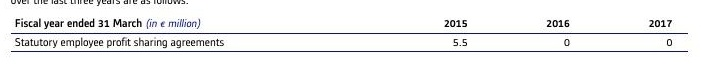table: (0, 0, 703, 70)
